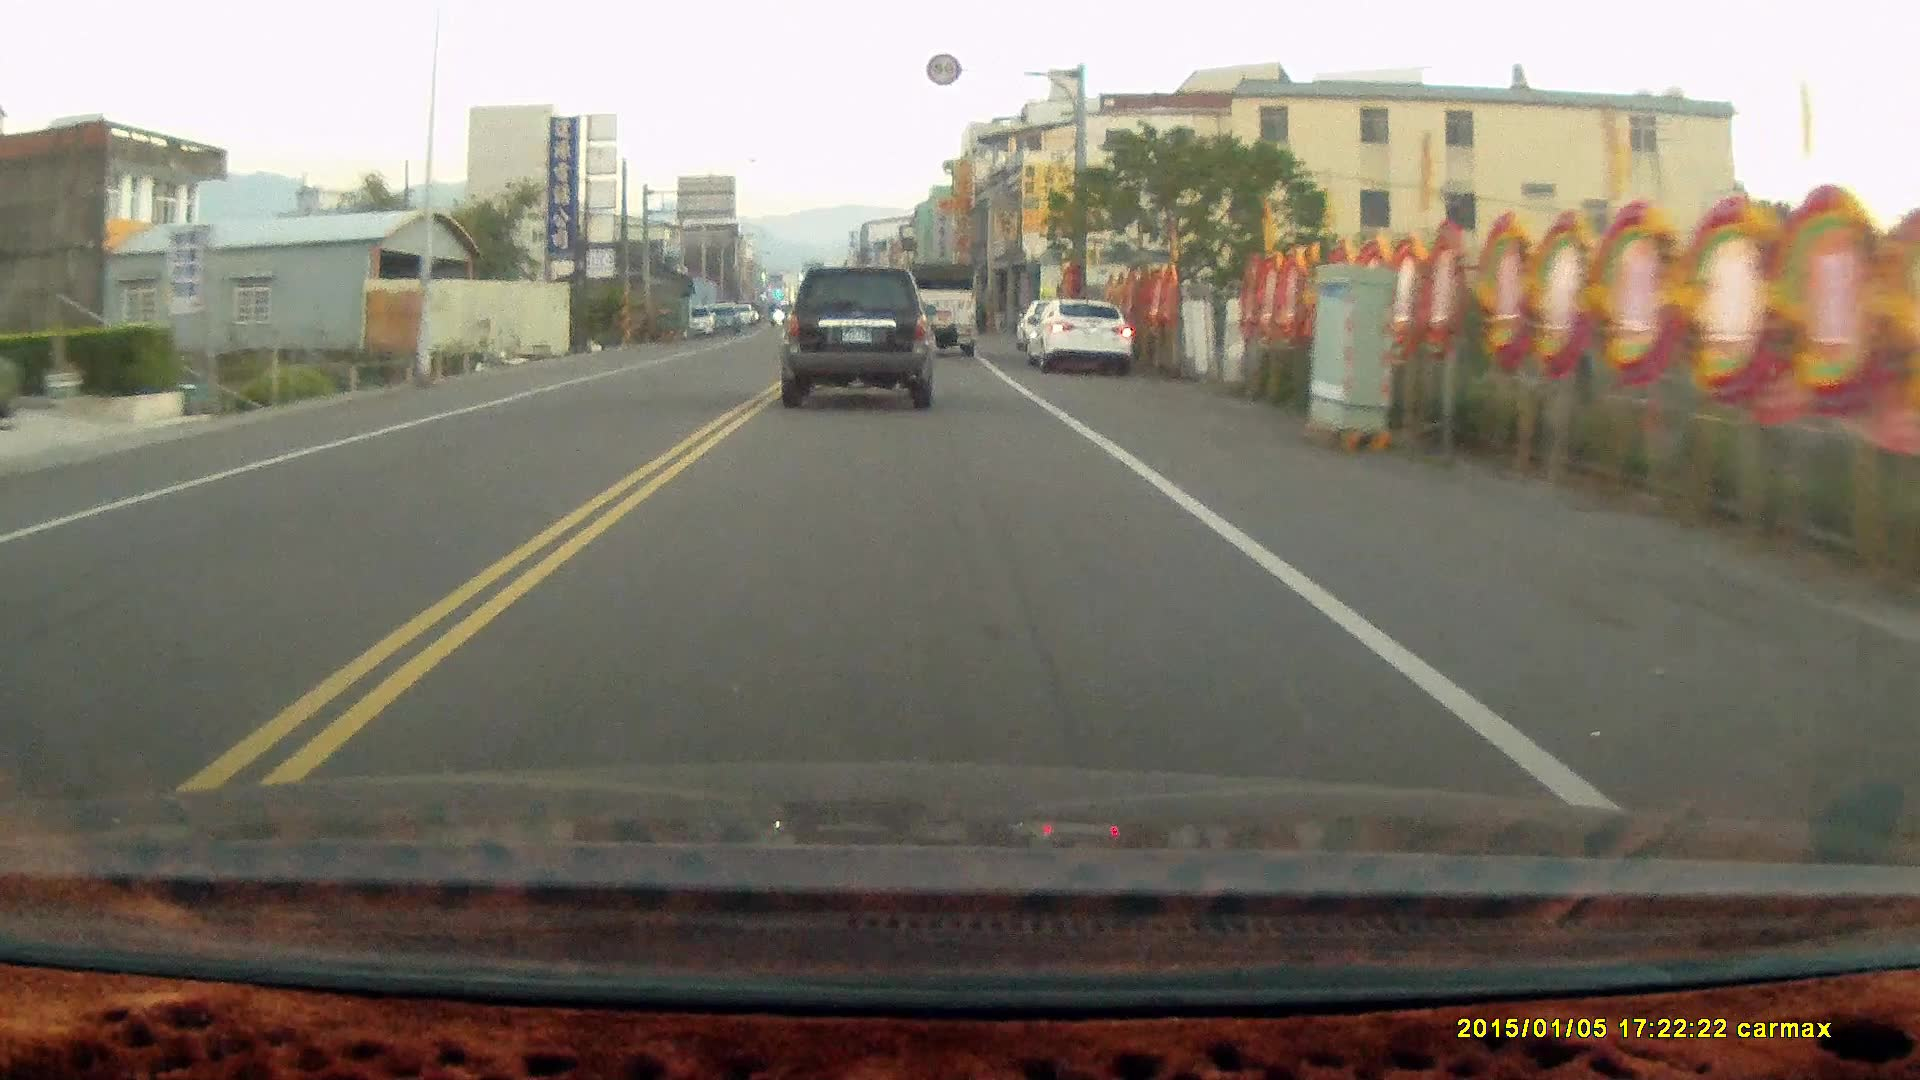vehicle: (779, 258, 936, 406), (1026, 297, 1135, 375), (902, 262, 982, 357)
